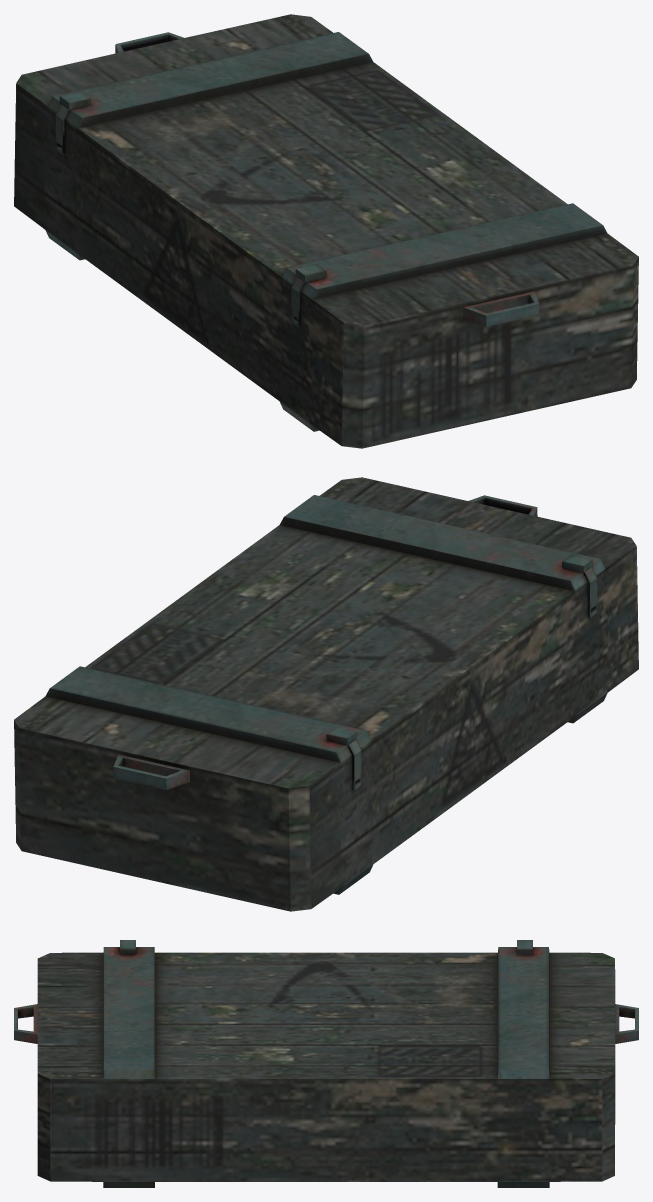
The model's file is ExplosiveCrate.FBX.
The picture shows the model from 3 angles, top to bottom: view 1: azimuth 30°, elevation 25°; view 2: azimuth 150°, elevation 25°; view 3: azimuth 270°, elevation 25°; orthographic projection. The views are drawn at different scales.
Visible parts, largest first — view 1: ExplosiveCrate; view 2: ExplosiveCrate; view 3: ExplosiveCrate.
Part boxes in pixels (x1,y1,x2,y2): ExplosiveCrate: (14,14,638,448); ExplosiveCrate: (14,477,638,911); ExplosiveCrate: (14,940,638,1187).
Size of the model in its own units: 62.59 by 30.99 by 135.
